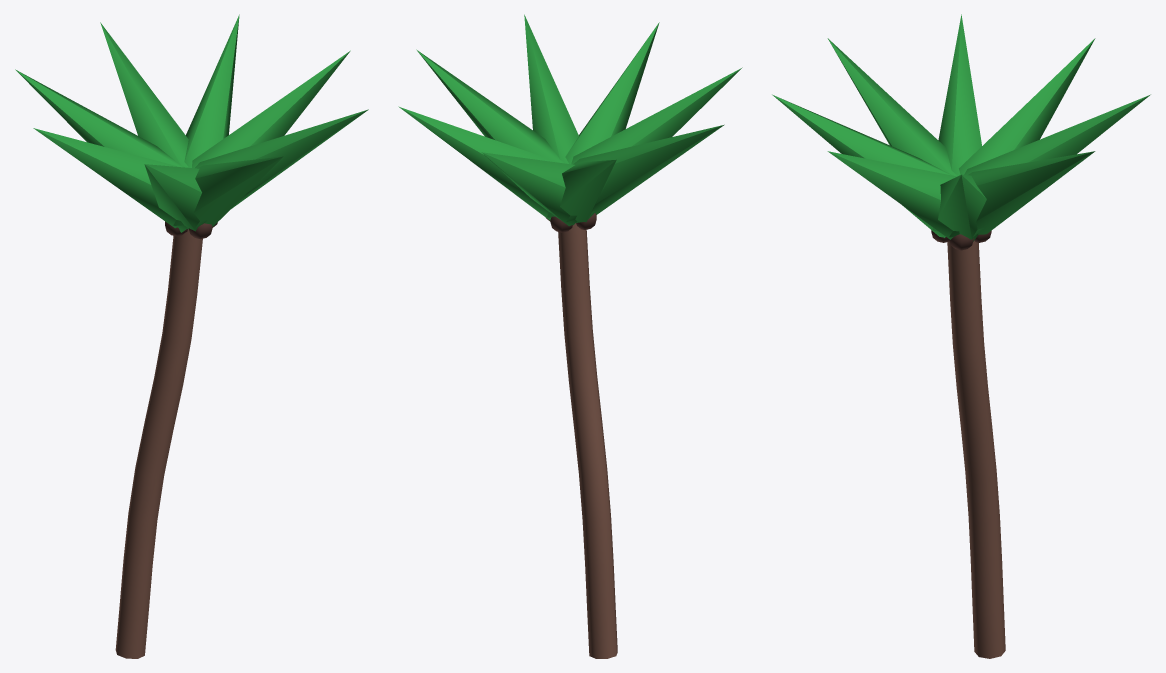
Rendered from palm_tree.glb.
3 views of the same model, side by side, from view 1: azimuth 30°, elevation 25°; view 2: azimuth 150°, elevation 25°; view 3: azimuth 270°, elevation 25° (orthographic). The views are drawn at different scales.
Parts seen in each view (by area): view 1: PalmTree; view 2: PalmTree; view 3: PalmTree.
Boxes of the visible parts, x1,y1,x2,y2 form: PalmTree: (15, 14, 368, 658); PalmTree: (398, 14, 742, 658); PalmTree: (772, 14, 1150, 658).
Size of the model in its own units: 5.32 by 9 by 5.32.
